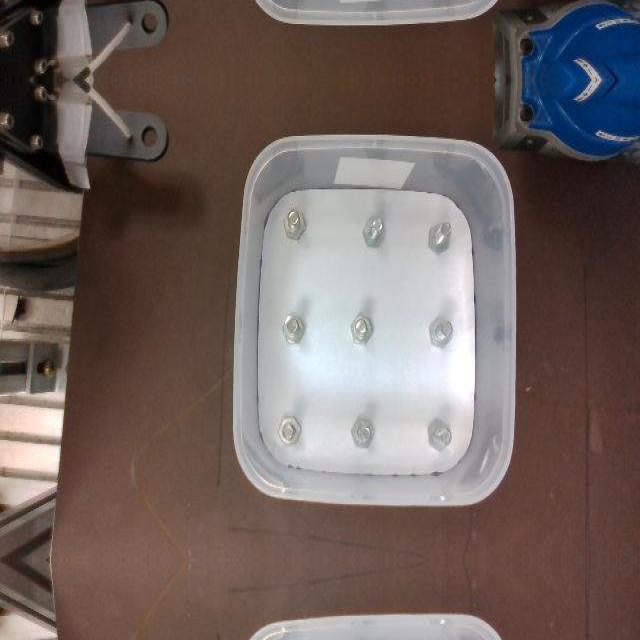screw: (428, 417, 451, 451), (430, 316, 453, 348), (362, 217, 386, 247), (430, 221, 451, 255), (278, 415, 301, 445), (352, 417, 375, 447), (283, 209, 305, 239), (350, 315, 372, 345), (283, 313, 304, 343)
